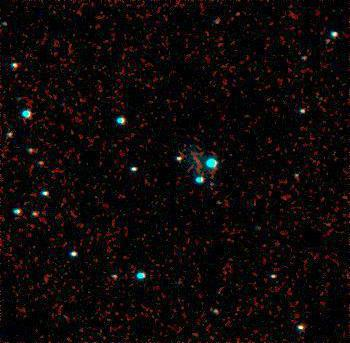star: (223, 0, 253, 29)
